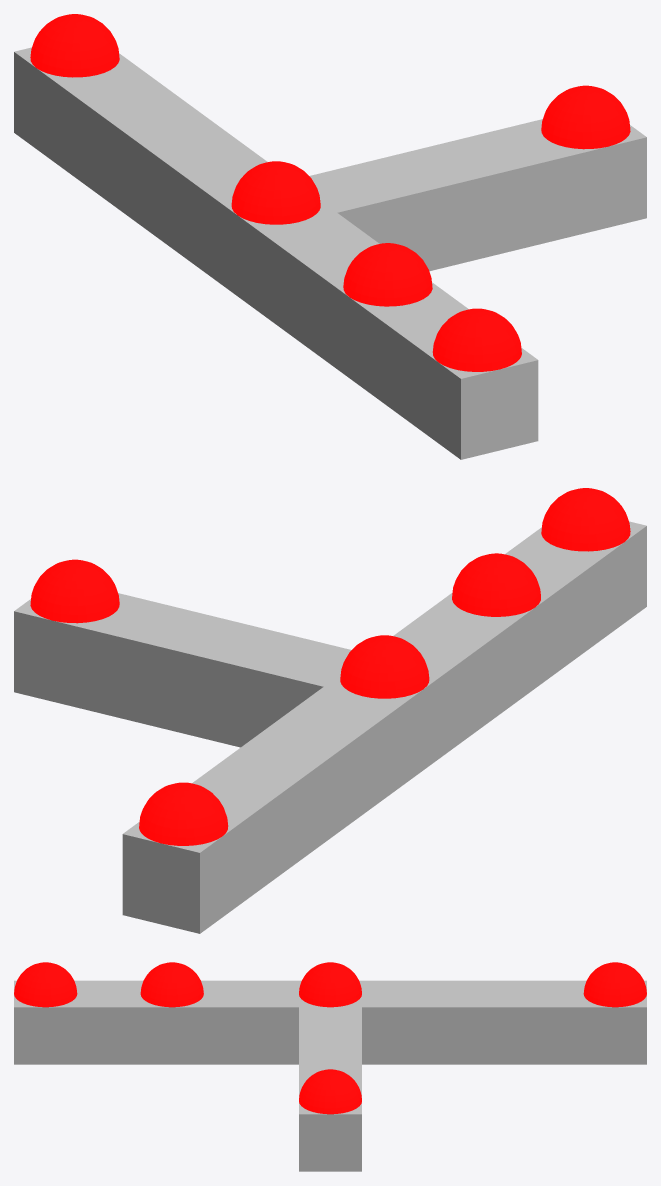
Rendered from ir_marker_6.dae.
3 views of the same model, one above another, from view 1: azimuth 30°, elevation 25°; view 2: azimuth 150°, elevation 25°; view 3: azimuth 270°, elevation 25° (orthographic). The views are drawn at different scales.
Visible parts, largest first — view 1: bar_lr, bar_fb, marker_i, marker_c, marker_l, marker_r, marker_f; view 2: bar_lr, bar_fb, marker_c, marker_l, marker_r, marker_i, marker_f; view 3: bar_lr, bar_fb, marker_l, marker_r, marker_i, marker_c, marker_f.
Boxes of the visible parts, bbox=[...] form: bar_lr: bbox=[14, 47, 538, 459]; bar_fb: bbox=[309, 119, 646, 271]; marker_i: bbox=[343, 243, 432, 306]; marker_c: bbox=[231, 161, 320, 224]; marker_l: bbox=[30, 14, 119, 77]; marker_r: bbox=[432, 308, 521, 371]; marker_f: bbox=[541, 85, 630, 149]; bar_lr: bbox=[122, 521, 646, 933]; bar_fb: bbox=[14, 593, 351, 747]; marker_c: bbox=[340, 635, 429, 698]; marker_l: bbox=[139, 782, 228, 845]; marker_r: bbox=[541, 488, 630, 551]; marker_i: bbox=[452, 553, 540, 616]; marker_f: bbox=[30, 559, 119, 623]; bar_lr: bbox=[14, 980, 646, 1064]; bar_fb: bbox=[299, 1007, 361, 1171]; marker_l: bbox=[583, 962, 646, 1007]; marker_r: bbox=[14, 962, 77, 1007]; marker_i: bbox=[140, 962, 203, 1007]; marker_c: bbox=[299, 962, 361, 1007]; marker_f: bbox=[299, 1069, 361, 1114].
Bounding box in the file's own units: 0.05 × 0.1 × 0.015.
